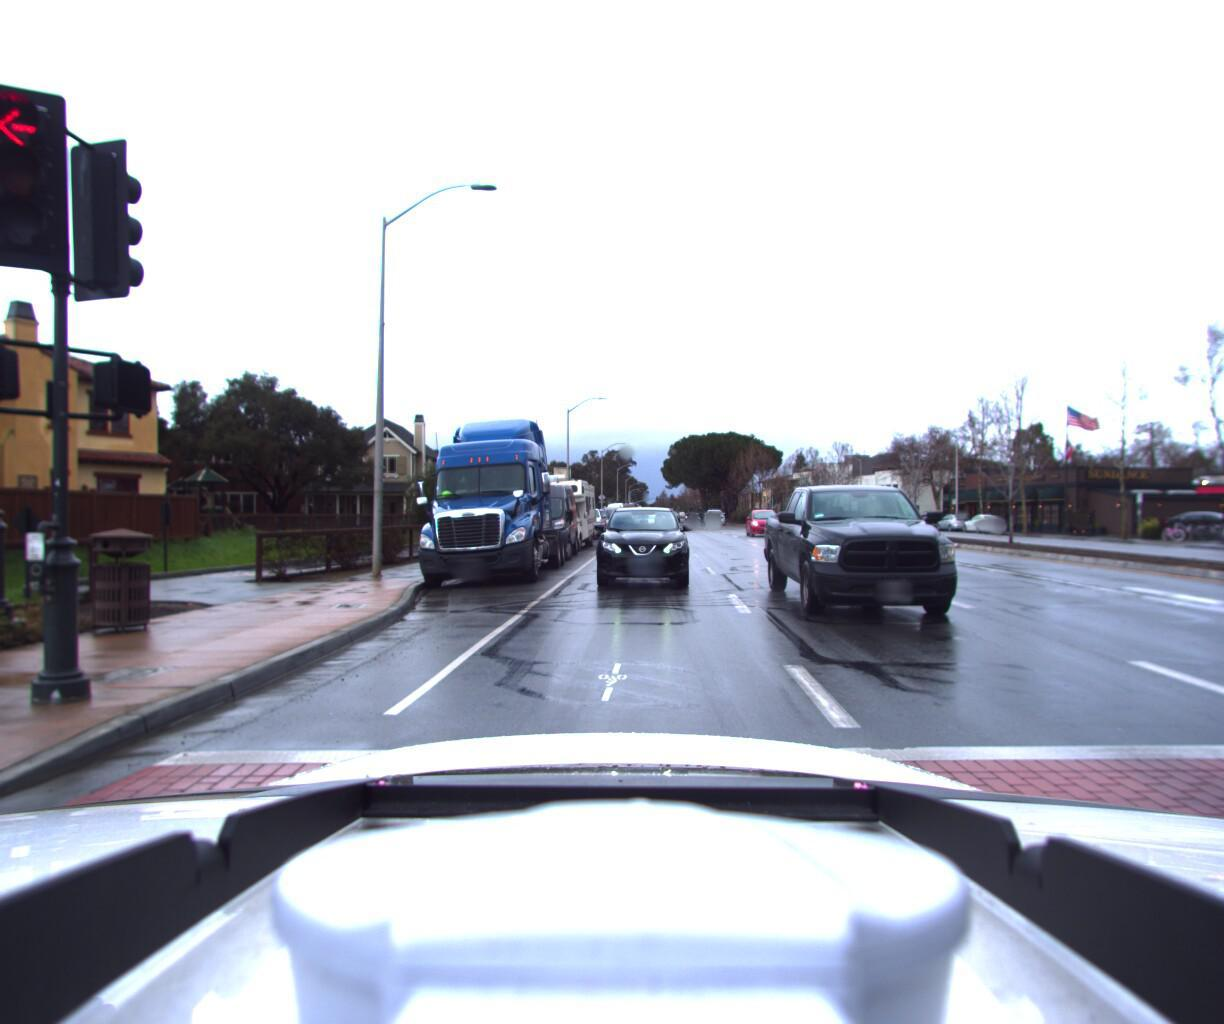bicycle: (1157, 519, 1187, 540), (1172, 519, 1202, 540)
car: (771, 477, 1016, 648), (588, 507, 686, 593), (491, 473, 582, 563), (563, 503, 607, 540), (742, 513, 788, 542), (957, 513, 1006, 535), (933, 511, 973, 532), (703, 509, 727, 529)
other_vehicle: (521, 471, 597, 555)
truck: (397, 396, 565, 596)
